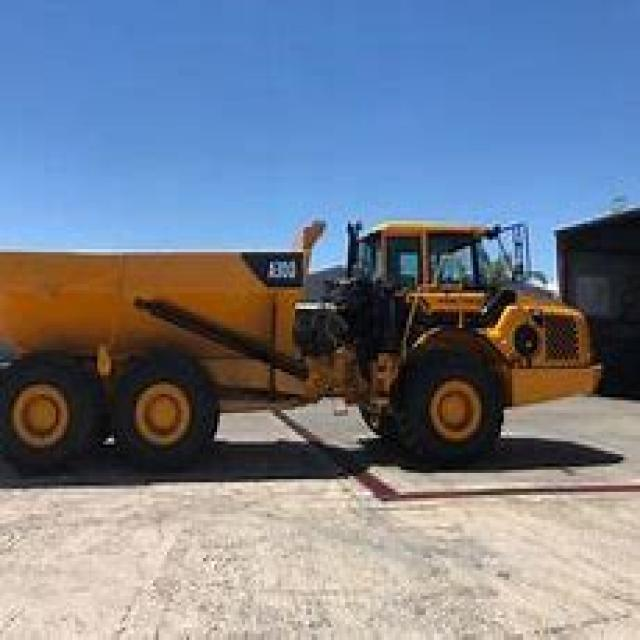dump_truck: (6, 199, 598, 476)
